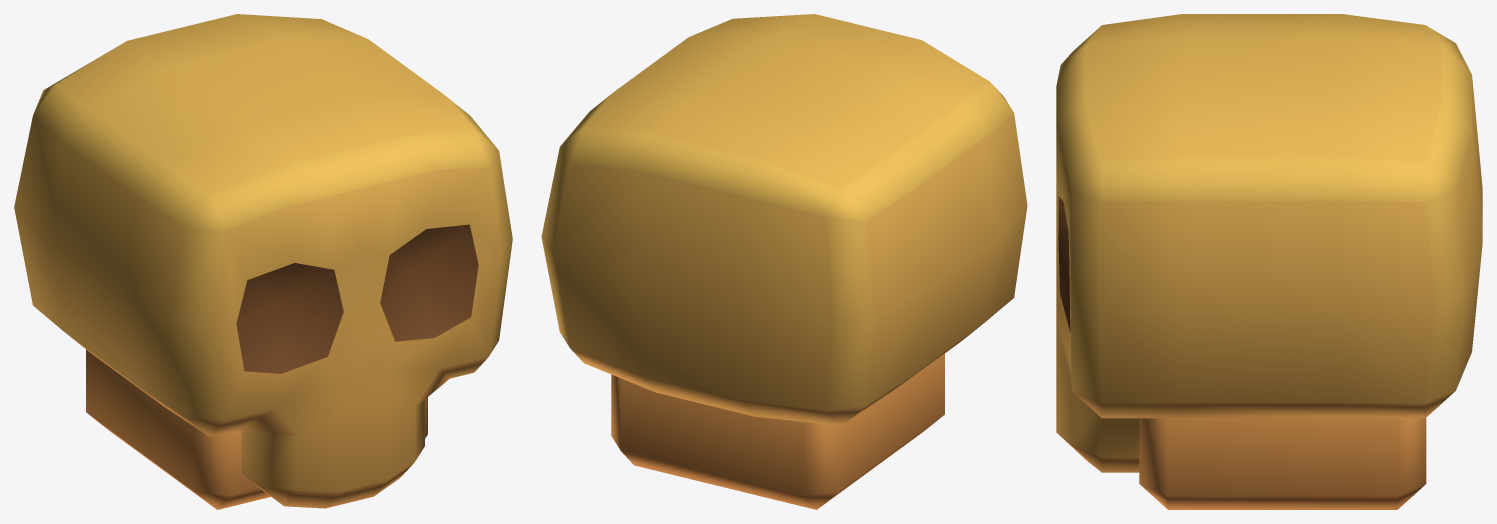
The model's file is skull_stone.fbx.
3 views of the same model, side by side, from view 1: azimuth 30°, elevation 25°; view 2: azimuth 150°, elevation 25°; view 3: azimuth 270°, elevation 25° (orthographic). The views are drawn at different scales.
Visible parts, largest first — view 1: skull_stone; view 2: skull_stone; view 3: skull_stone.
Part boxes in pixels (x1,y1,x2,y2): skull_stone: (14, 14, 512, 509); skull_stone: (541, 14, 1027, 509); skull_stone: (1056, 14, 1482, 509).
Bounding box in the file's own units: 76.97 × 76.06 × 74.35.
